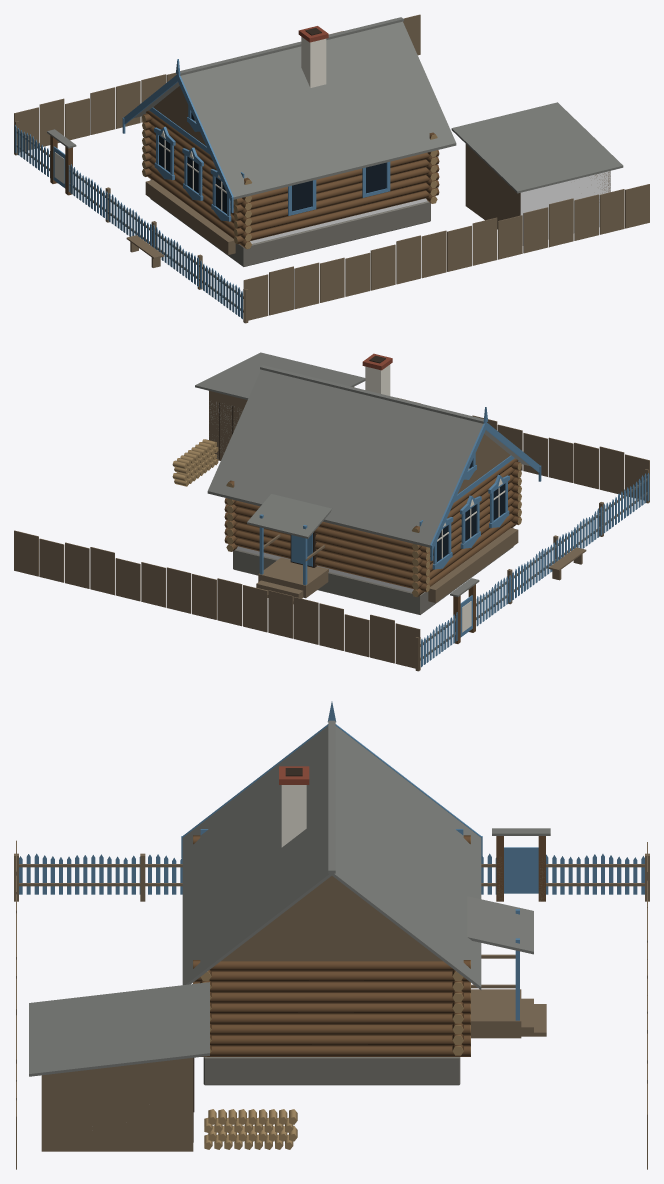
The model's file is izba-1.glb.
The picture shows the model from 3 angles, top to bottom: view 1: azimuth 30°, elevation 25°; view 2: azimuth 150°, elevation 25°; view 3: azimuth 270°, elevation 25°; orthographic projection. The views are drawn at different scales.
Parts seen in each view (by area): view 1: 05_#7a7c78, 04_#7a6a56, 02_#6a5038, 06_paint0, 00_#77756e, solid, 07_#1c2630, 08_#e6e2d6, 03_#a08660, solid.001; view 2: 05_#7a7c78, 04_#7a6a56, 02_#6a5038, 06_paint0, 00_#77756e, 03_#a08660, 08_#e6e2d6, 07_#1c2630, solid.001; view 3: 05_#7a7c78, 04_#7a6a56, 02_#6a5038, 06_paint0, 00_#77756e, 03_#a08660, 08_#e6e2d6.
Boxes of the visible parts, x1,y1,x2,y2 form: 05_#7a7c78: [47, 17, 623, 199]; 04_#7a6a56: [14, 14, 649, 323]; 02_#6a5038: [50, 110, 439, 248]; 06_paint0: [14, 59, 390, 319]; 00_#77756e: [150, 179, 430, 266]; solid: [520, 171, 610, 245]; 07_#1c2630: [159, 112, 386, 213]; 08_#e6e2d6: [54, 37, 326, 210]; 03_#a08660: [142, 115, 437, 249]; solid.001: [250, 198, 427, 243]; 05_#7a7c78: [195, 352, 530, 597]; 04_#7a6a56: [14, 387, 649, 671]; 02_#6a5038: [224, 458, 520, 643]; 06_paint0: [259, 407, 649, 667]; 00_#77756e: [233, 527, 513, 614]; 03_#a08660: [172, 439, 521, 596]; 08_#e6e2d6: [365, 364, 505, 632]; 07_#1c2630: [433, 460, 504, 561]; solid.001: [236, 546, 413, 591]; 05_#7a7c78: [29, 720, 550, 1076]; 04_#7a6a56: [14, 840, 649, 1169]; 02_#6a5038: [193, 835, 545, 1056]; 06_paint0: [19, 701, 644, 1020]; 00_#77756e: [203, 1057, 460, 1085]; 03_#a08660: [193, 835, 470, 1149]; 08_#e6e2d6: [281, 785, 306, 847].
Size of the model in its own units: 15.82 by 6.75 by 15.12.
